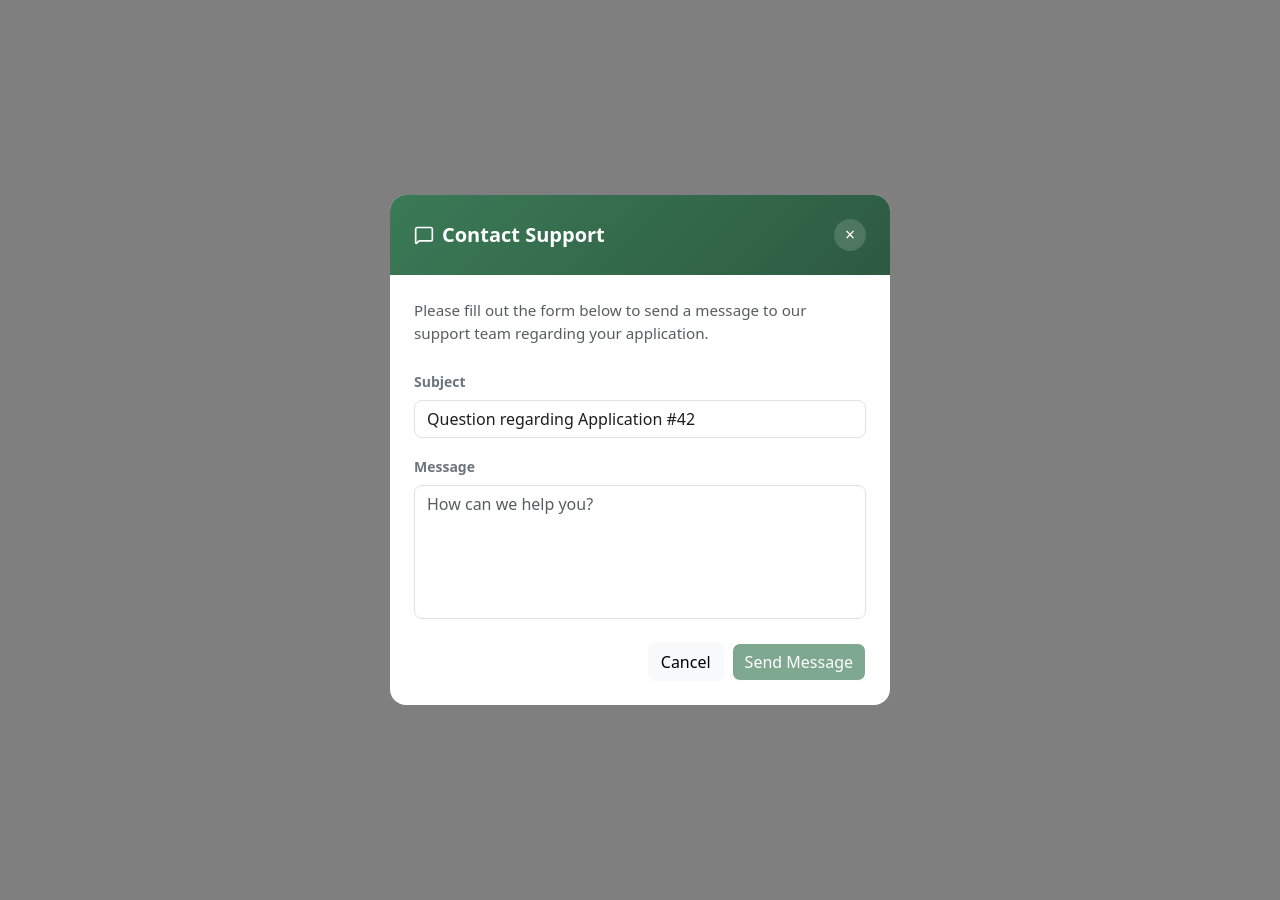
Test: ContactSupportModal › if API error occurs, show user error from response
The image size is (1280, 900).
Step 1. Type "Help" into the text box labelled "Message" → [640, 552], box [414, 485, 866, 619]
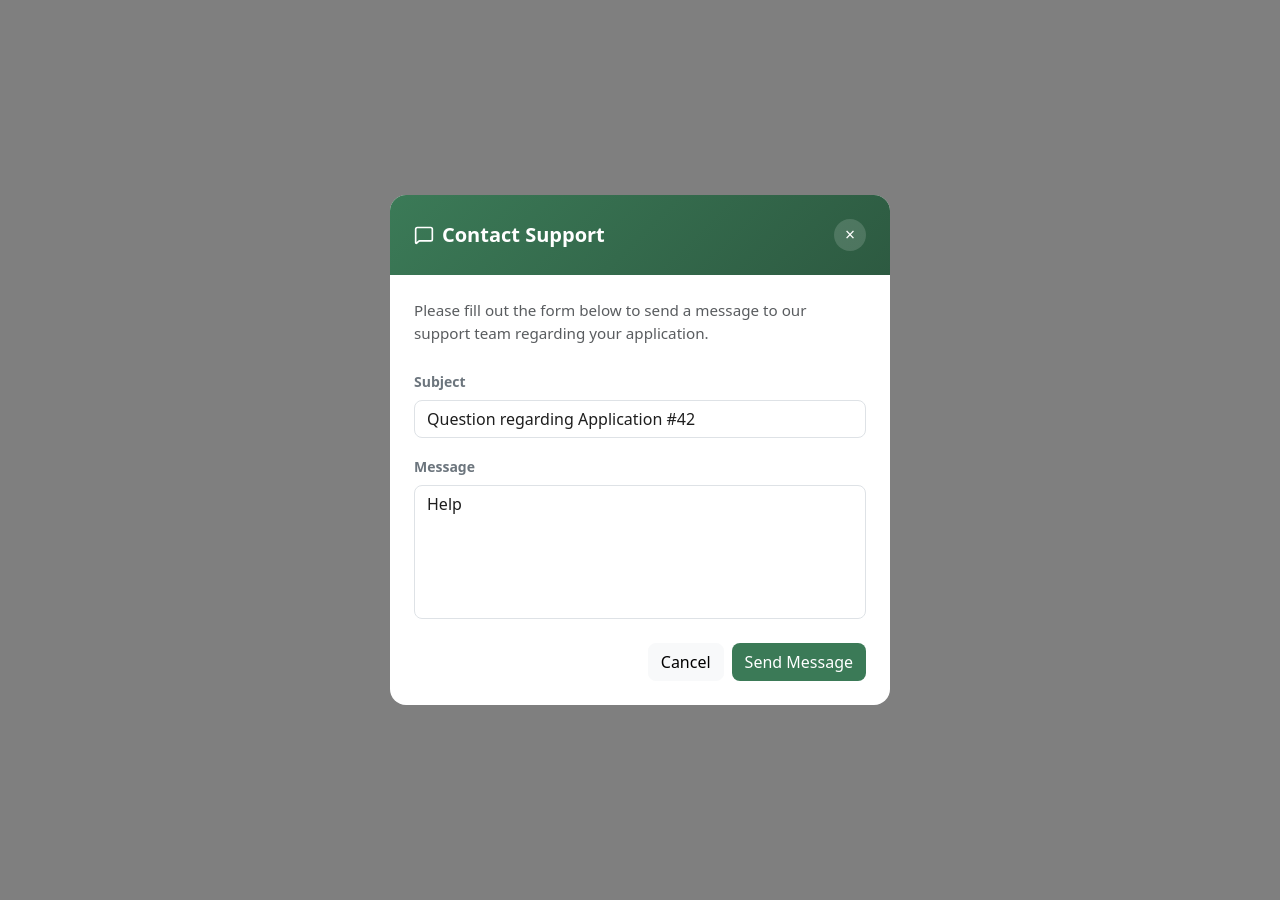
Step 2. Click the button "Send Message" → [799, 662], box [732, 643, 866, 681]
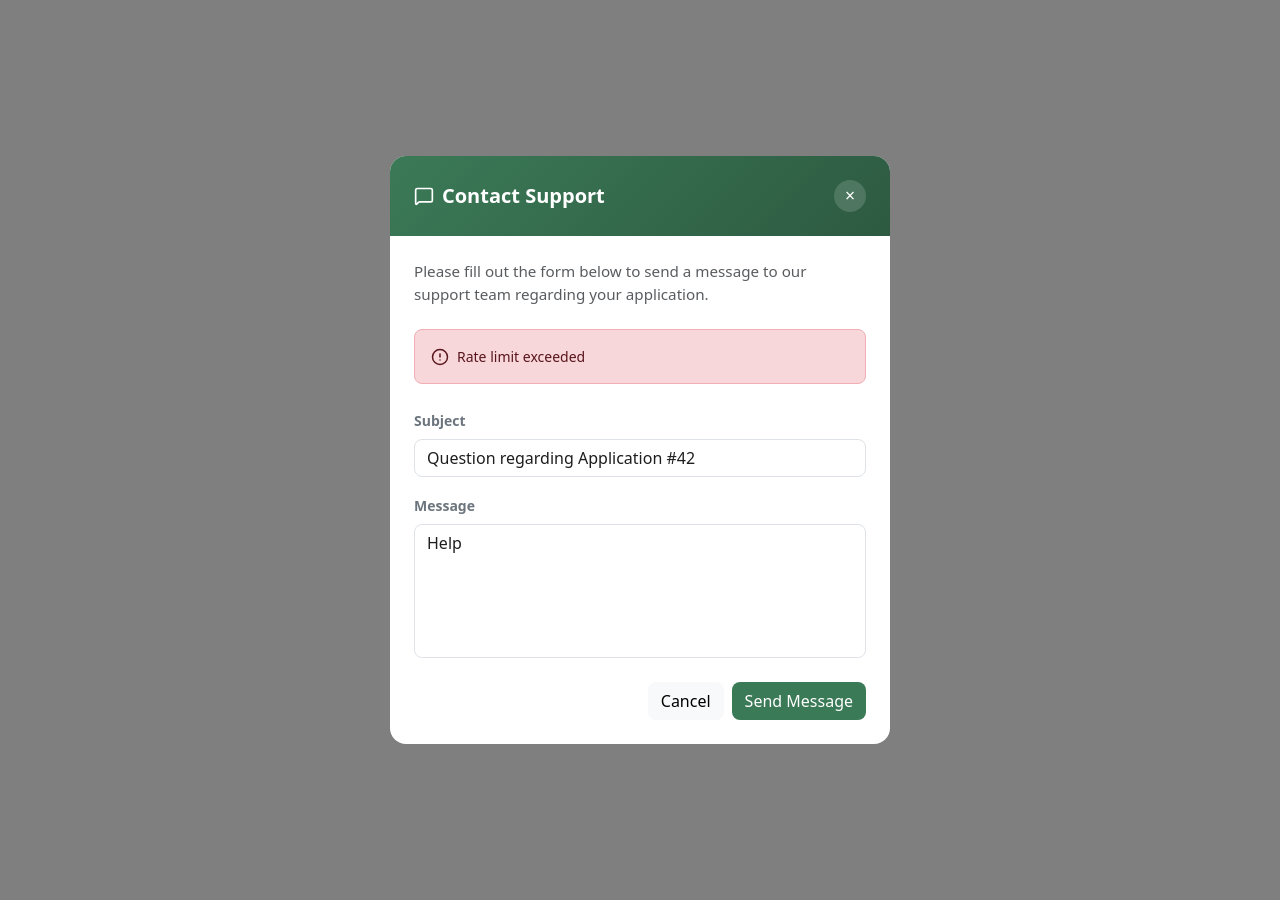
Expected: the text "Rate limit exceeded" is shown, [457, 346, 585, 367]
